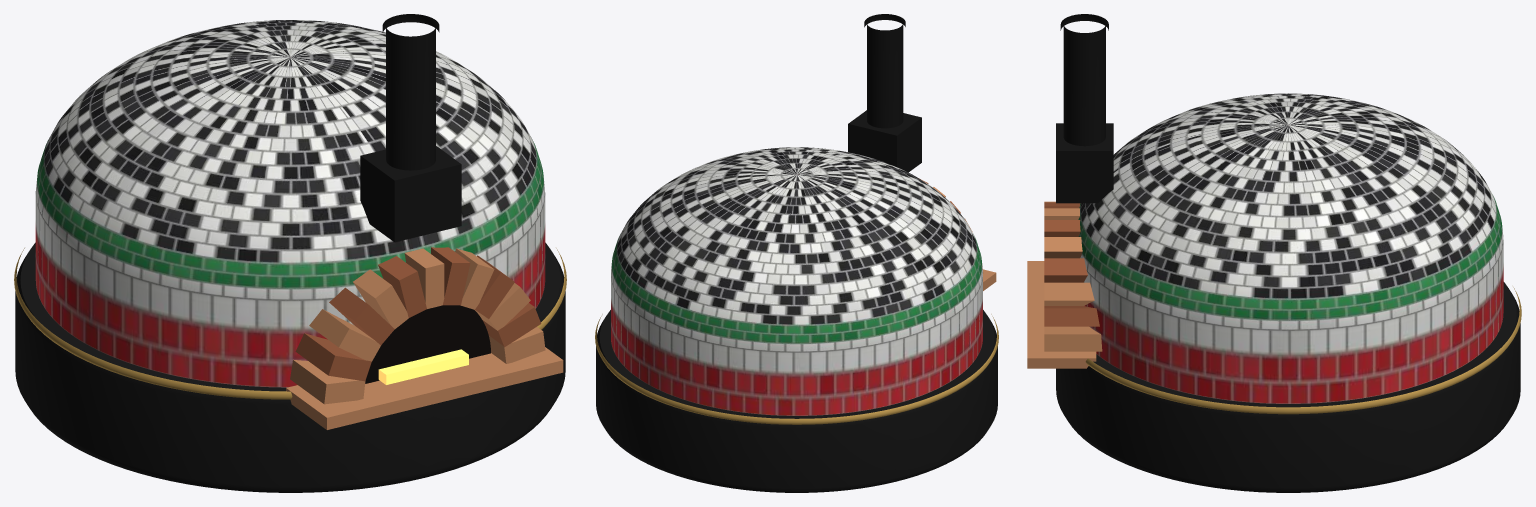
File: horno-tricolor.glb
The picture shows the model from 3 angles, left to right: view 1: azimuth 30°, elevation 25°; view 2: azimuth 150°, elevation 25°; view 3: azimuth 270°, elevation 25°; orthographic projection. The views are drawn at different scales.
Parts seen in each view (by area): view 1: cupula, base, arco, chimenea, arco-oscuro, boca, filete, fuego; view 2: cupula, base, chimenea, filete; view 3: cupula, base, chimenea, arco, filete, arco-oscuro.
Part boxes in pixels (left/top/right/bottom): cupula: left=35, top=20, right=545, bottom=387; base: left=15, top=242, right=565, bottom=492; arco: left=286, top=248, right=563, bottom=429; chimenea: left=360, top=14, right=461, bottom=242; arco-oscuro: left=295, top=247, right=541, bottom=381; boca: left=365, top=305, right=490, bottom=383; filete: left=14, top=248, right=566, bottom=399; fuego: left=378, top=349, right=468, bottom=384; cupula: left=611, top=147, right=982, bottom=415; base: left=596, top=310, right=997, bottom=492; chimenea: left=848, top=14, right=921, bottom=172; filete: left=595, top=314, right=998, bottom=424; cupula: left=1078, top=93, right=1503, bottom=403; base: left=1056, top=282, right=1520, bottom=492; chimenea: left=1056, top=14, right=1113, bottom=203; arco: left=1027, top=201, right=1102, bottom=368; filete: left=1085, top=287, right=1521, bottom=414; arco-oscuro: left=1044, top=202, right=1099, bottom=326.
Bounding box in the file's own units: 2.43 × 2.14 × 2.58.
8 materials, 1 textured.
